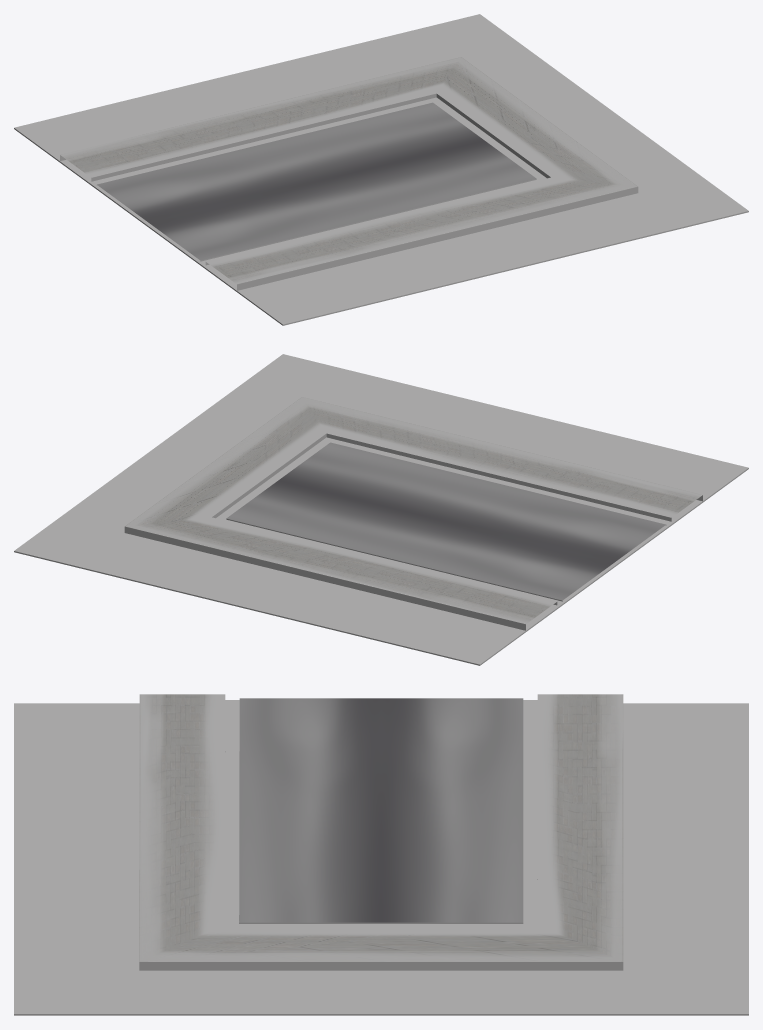
The model's file is Flat_Deadend.fbx.
The picture shows the model from 3 angles, top to bottom: view 1: azimuth 30°, elevation 25°; view 2: azimuth 150°, elevation 25°; view 3: azimuth 270°, elevation 25°; orthographic projection. The views are drawn at different scales.
Parts seen in each view (by area): view 1: Road_10X39, Road_10X45; view 2: Road_10X39, Road_10X45; view 3: Road_10X39, Road_10X45.
Boxes of the visible parts, bbox=[...] form: Road_10X39: bbox=[60, 57, 638, 290]; Road_10X45: bbox=[14, 14, 748, 325]; Road_10X39: bbox=[124, 397, 702, 630]; Road_10X45: bbox=[14, 354, 748, 665]; Road_10X39: bbox=[139, 694, 623, 970]; Road_10X45: bbox=[14, 703, 748, 1015].
Size of the model in its own units: 1000 by 16.24 by 1000.
